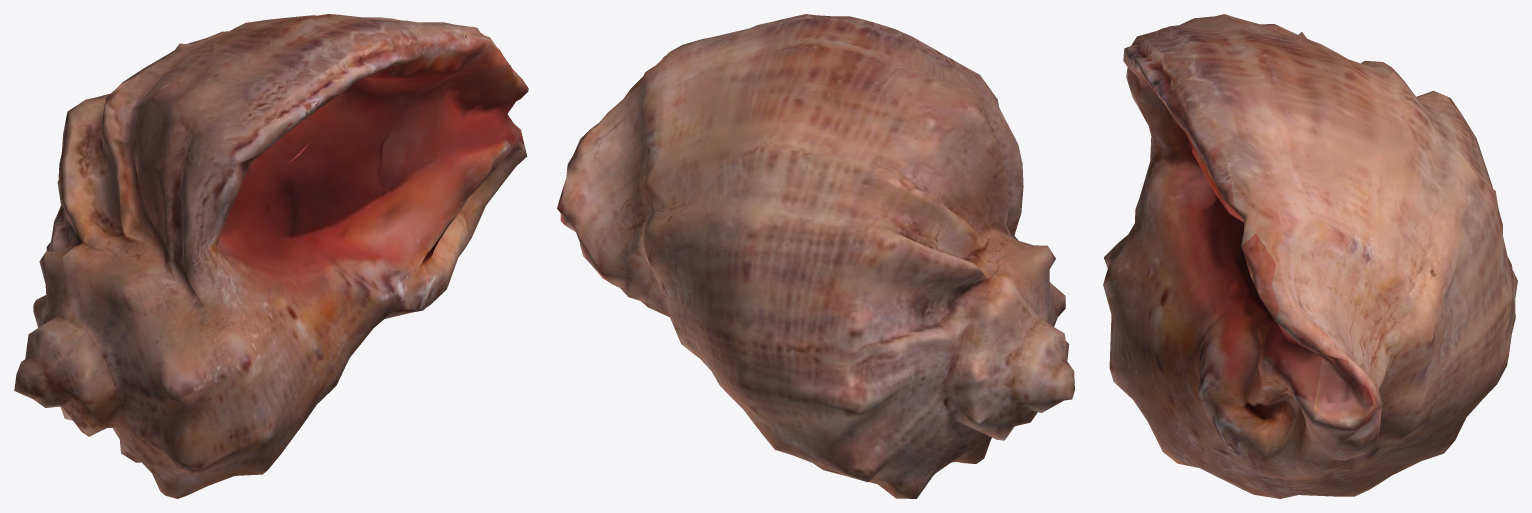
File: seashell2.obj
3 renders of one model, left to right at view 1: azimuth 30°, elevation 25°; view 2: azimuth 150°, elevation 25°; view 3: azimuth 270°, elevation 25°, orthographic. The views are drawn at different scales.
Bounding box in the file's own units: 13.32 × 10.57 × 8.09.
